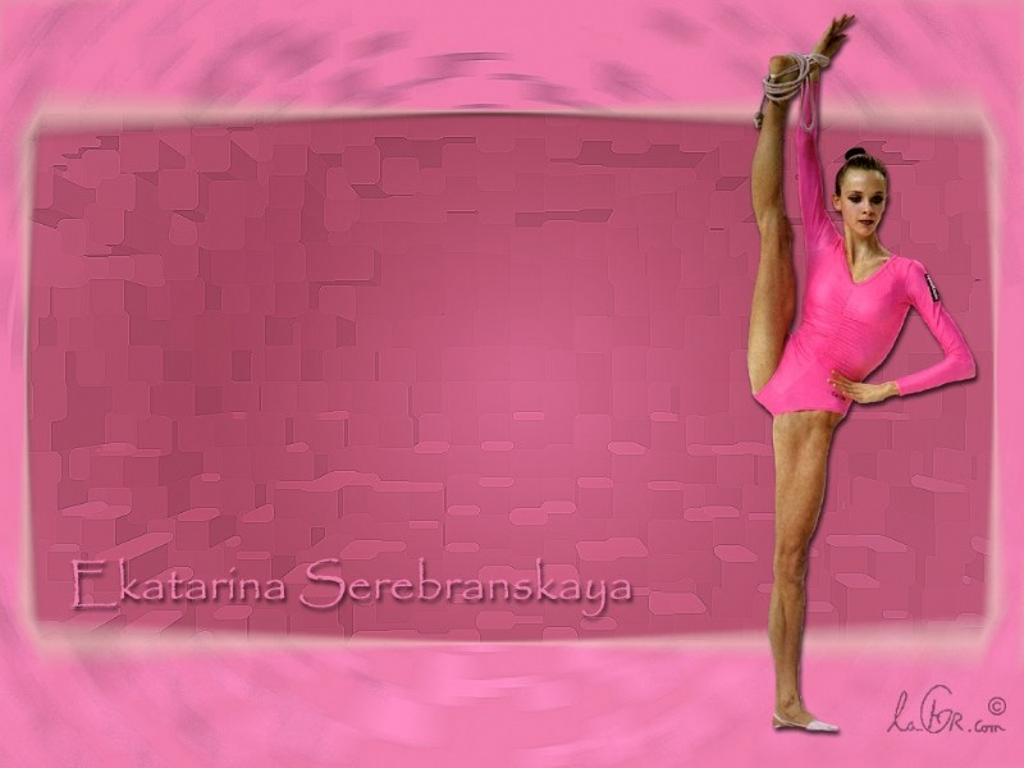face: (841, 178, 887, 236)
